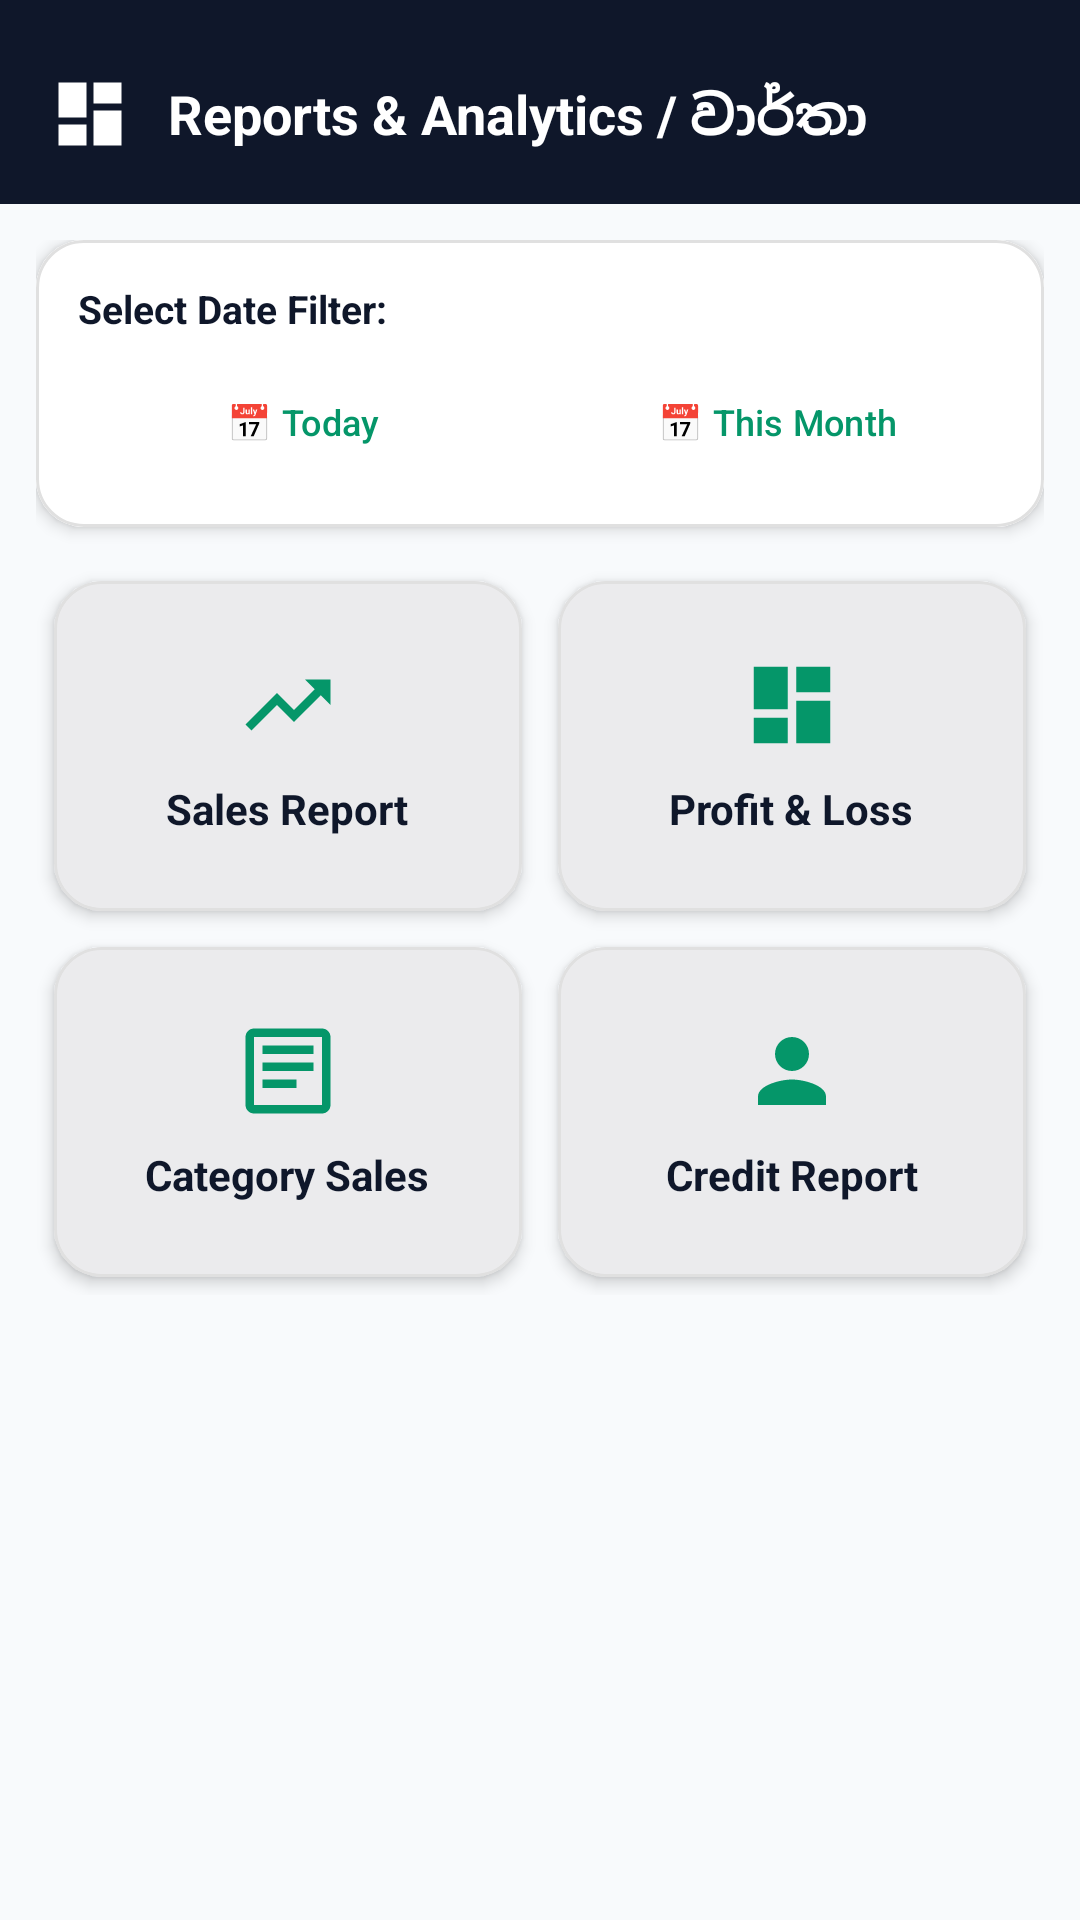

Screen size 1080 × 1920. Icon name, then its box in pixels as BBox(x1, y1, x2, y2):
dashboard: BBox(753, 666, 831, 744)
person: BBox(758, 1037, 826, 1105)
trending up: BBox(245, 679, 331, 731)
